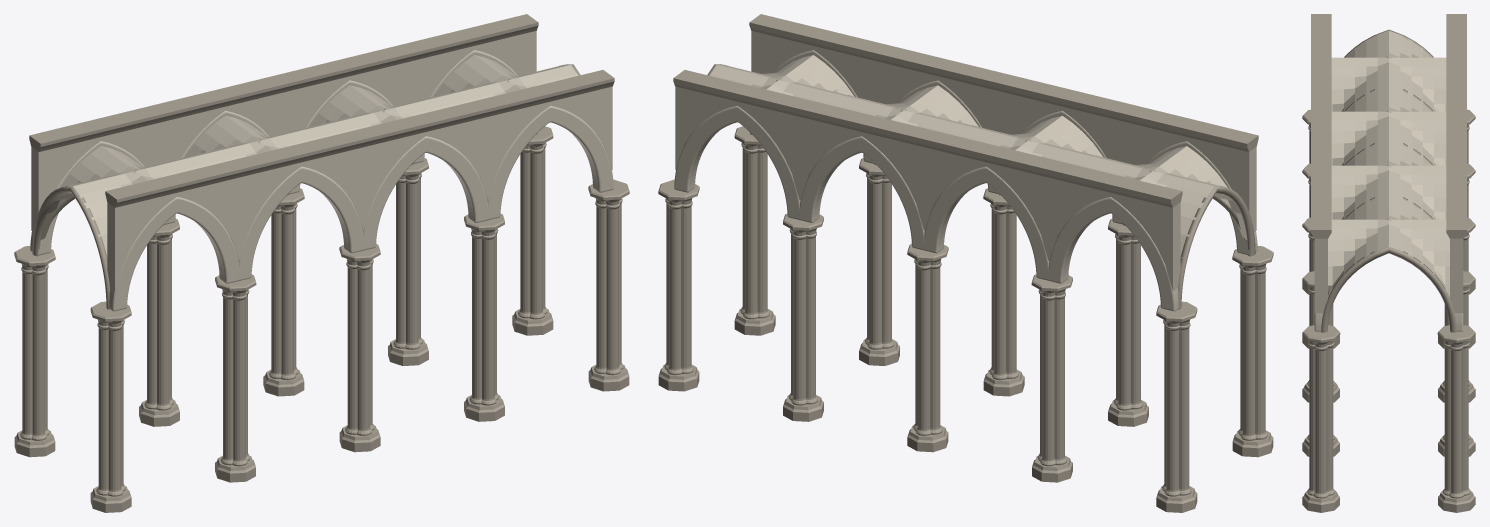
Rendered from arcade.glb.
3 views of the same model, side by side, from view 1: azimuth 30°, elevation 25°; view 2: azimuth 150°, elevation 25°; view 3: azimuth 270°, elevation 25° (orthographic). The views are drawn at different scales.
Visible parts, largest first — view 1: arc-pier, arc-spandrel, arc-course, arc-arch, arc-vault, arc-rib-transverse; view 2: arc-pier, arc-spandrel, arc-course, arc-arch, arc-vault, arc-rib-transverse; view 3: arc-vault, arc-pier, arc-course, arc-rib-transverse, arc-spandrel, arc-arch.
Part boxes in pixels (<box>): arc-pier: <box>14,126,629,512</box>; arc-spandrel: <box>31,31,612,291</box>; arc-course: <box>29,14,614,207</box>; arc-arch: <box>30,50,613,311</box>; arc-vault: <box>40,55,577,263</box>; arc-rib-transverse: <box>32,64,580,309</box>; arc-pier: <box>658,126,1273,512</box>; arc-spandrel: <box>675,31,1256,291</box>; arc-course: <box>673,14,1258,207</box>; arc-arch: <box>674,50,1257,311</box>; arc-vault: <box>710,55,1247,257</box>; arc-rib-transverse: <box>707,64,1255,309</box>; arc-vault: <box>1328,31,1449,297</box>; arc-pier: <box>1302,109,1475,512</box>; arc-course: <box>1311,14,1466,238</box>; arc-rib-transverse: <box>1321,29,1456,332</box>; arc-spandrel: <box>1314,238,1463,313</box>; arc-arch: <box>1314,313,1463,331</box>.
Bounding box in the file's own units: 18.66 × 10.3 × 5.89.
